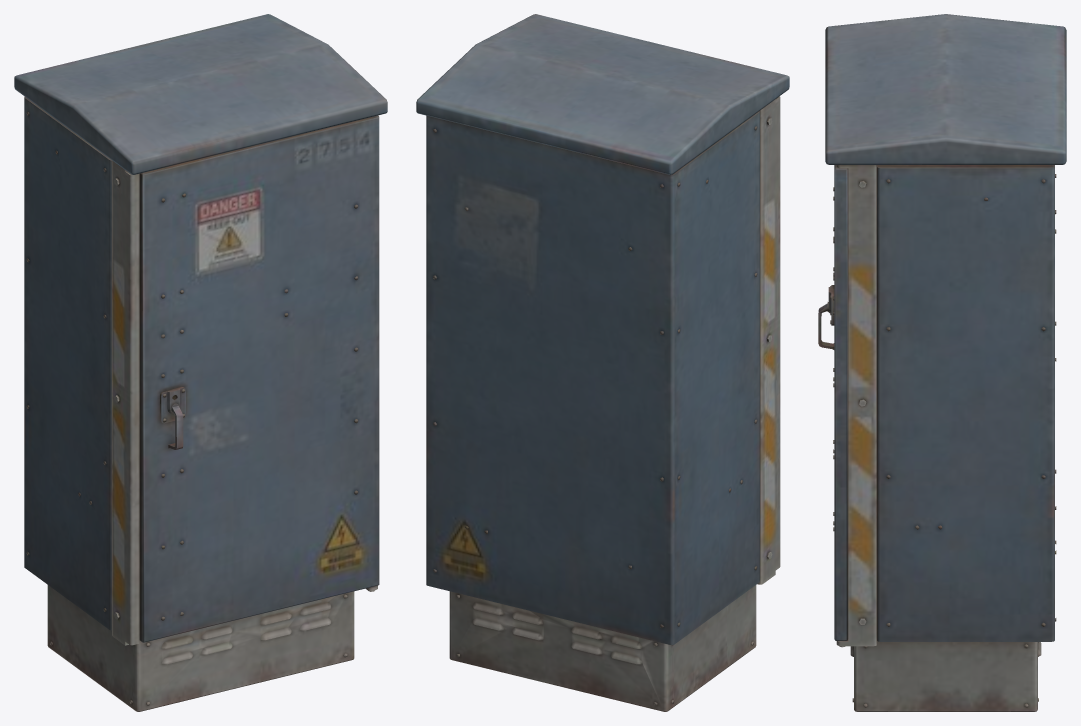
File: utility_box_01.glb
3 renders of one model, left to right at view 1: azimuth 30°, elevation 25°; view 2: azimuth 150°, elevation 25°; view 3: azimuth 270°, elevation 25°, orthographic.
Visible parts, largest first — view 1: utility_box_01_box; view 2: utility_box_01_box; view 3: utility_box_01_box.
Part boxes in pixels (x1=…): utility_box_01_box: x1=14, y1=14, x2=387, y2=711; utility_box_01_box: x1=416, y1=14, x2=789, y2=711; utility_box_01_box: x1=818, y1=14, x2=1066, y2=711.
Size of the model in its own units: 0.52 by 1.12 by 0.432.
1 material, 1 textured.
